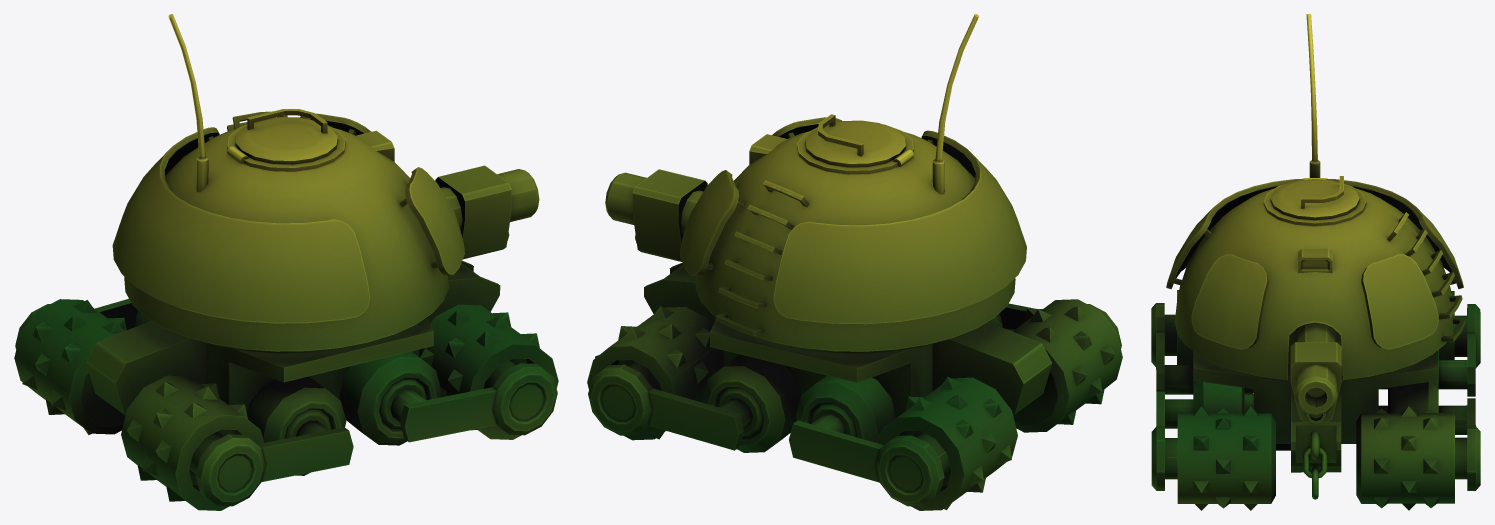
Rendered from m1_aegis.glb.
3 views of the same model, side by side, from view 1: azimuth 30°, elevation 25°; view 2: azimuth 150°, elevation 25°; view 3: azimuth 270°, elevation 25° (orthographic). The views are drawn at different scales.
Parts seen in each view (by area): view 1: Object_25, Object_7, Object_13.001, Object_23, Object_17, Object_17.001, Object_11.001, Object_23.001; view 2: Object_25, Object_7, Object_13, Object_23.001, Object_17.001, Object_17, Object_11, Object_23; view 3: Object_25, Object_11.001, Object_11, Object_7, Object_13.001, Object_13, Object_23, Object_23.001, Object_17.
Boxes of the visible parts, x1=… form: Object_25: x1=112, y1=14, x2=539, y2=353; Object_7: x1=86, y1=261, x2=500, y2=415; Object_13.001: x1=339, y1=351, x2=557, y2=445; Object_23: x1=189, y1=376, x2=353, y2=506; Object_17: x1=121, y1=375, x2=263, y2=510; Object_17.001: x1=14, y1=299, x2=126, y2=434; Object_11.001: x1=419, y1=304, x2=558, y2=439; Object_23.001: x1=15, y1=298, x2=150, y2=349; Object_25: x1=605, y1=14, x2=1026, y2=353; Object_7: x1=644, y1=262, x2=1052, y2=417; Object_13: x1=588, y1=354, x2=801, y2=452; Object_23.001: x1=789, y1=375, x2=950, y2=506; Object_17.001: x1=877, y1=377, x2=1017, y2=510; Object_17: x1=1007, y1=299, x2=1122, y2=432; Object_11: x1=587, y1=306, x2=723, y2=440; Object_23: x1=988, y1=303, x2=1121, y2=348; Object_25: x1=1166, y1=14, x2=1465, y2=423; Object_11.001: x1=1177, y1=406, x2=1275, y2=510; Object_11: x1=1356, y1=406, x2=1454, y2=510; Object_7: x1=1194, y1=350, x2=1437, y2=499; Object_13.001: x1=1151, y1=381, x2=1244, y2=490; Object_13: x1=1378, y1=381, x2=1480, y2=490; Object_23: x1=1151, y1=303, x2=1253, y2=398; Object_23.001: x1=1379, y1=304, x2=1480, y2=396; Object_17: x1=1177, y1=290, x2=1193, y2=364.
Size of the model in its own units: 3.27 by 3.14 by 2.46.
Materials: 3 (3 with a texture image).
